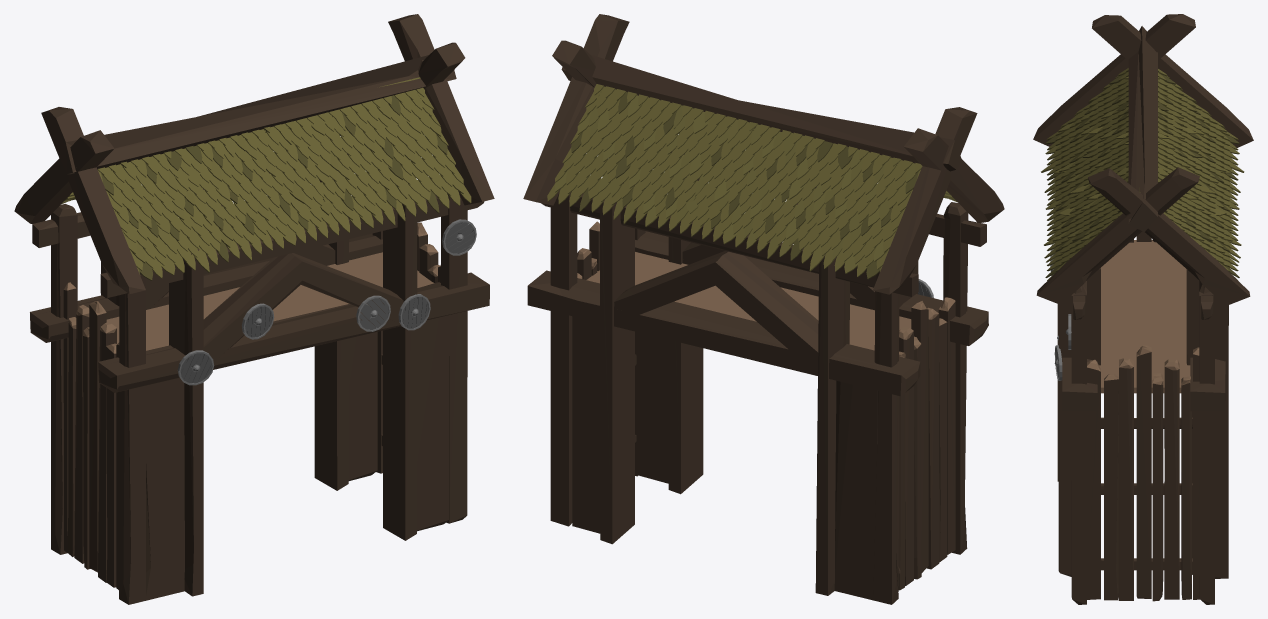
Rendered from SM_gatehouse_norse.fbx.
3 views of the same model, side by side, from view 1: azimuth 30°, elevation 25°; view 2: azimuth 150°, elevation 25°; view 3: azimuth 270°, elevation 25° (orthographic). The views are drawn at different scales.
Parts seen in each view (by area): view 1: Object552; view 2: Object552; view 3: Object552.
Boxes of the visible parts, x1,y1,x2,y2 form: Object552: (14, 14, 494, 604); Object552: (523, 14, 1004, 604); Object552: (1033, 14, 1253, 604).
Size of the model in its own units: 422 by 488 by 225.
